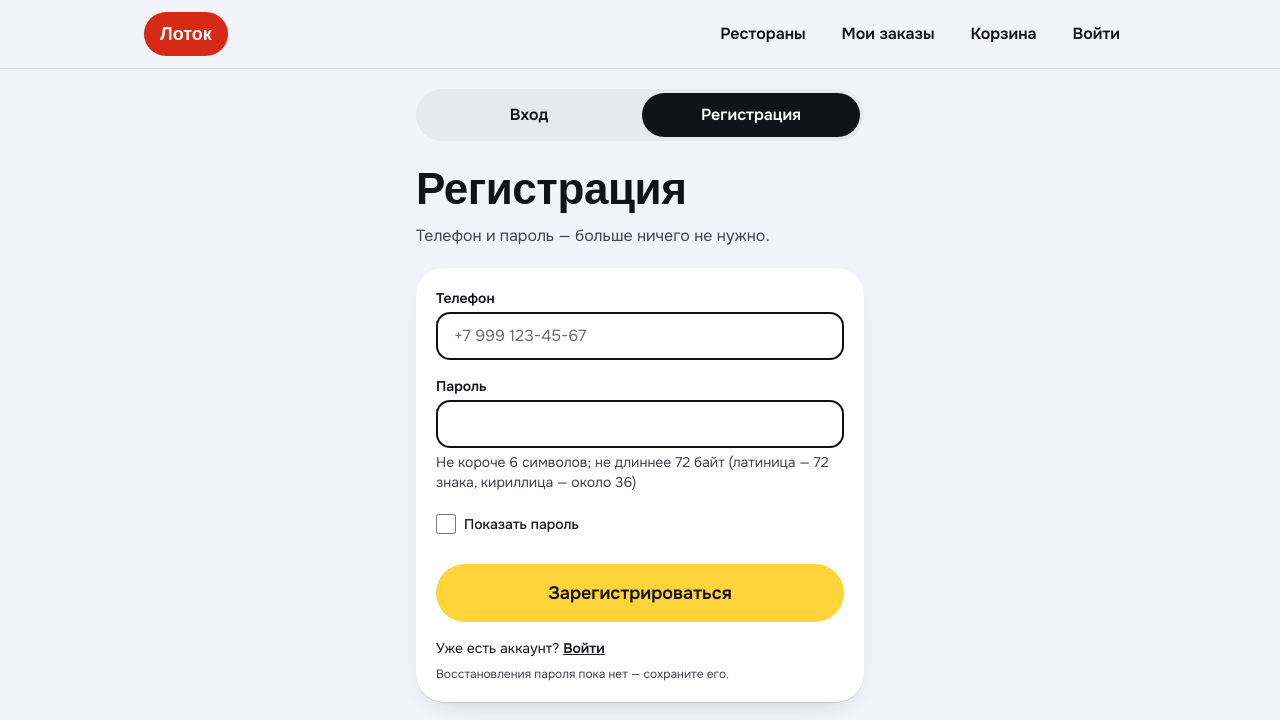
it: сессия (UC-ACC) › регистрация: занятый номер → ссылка «Войти»
Type "+79990000001" into the field labelled "Телефон". click: (640, 336)
box: [436, 312, 844, 360]
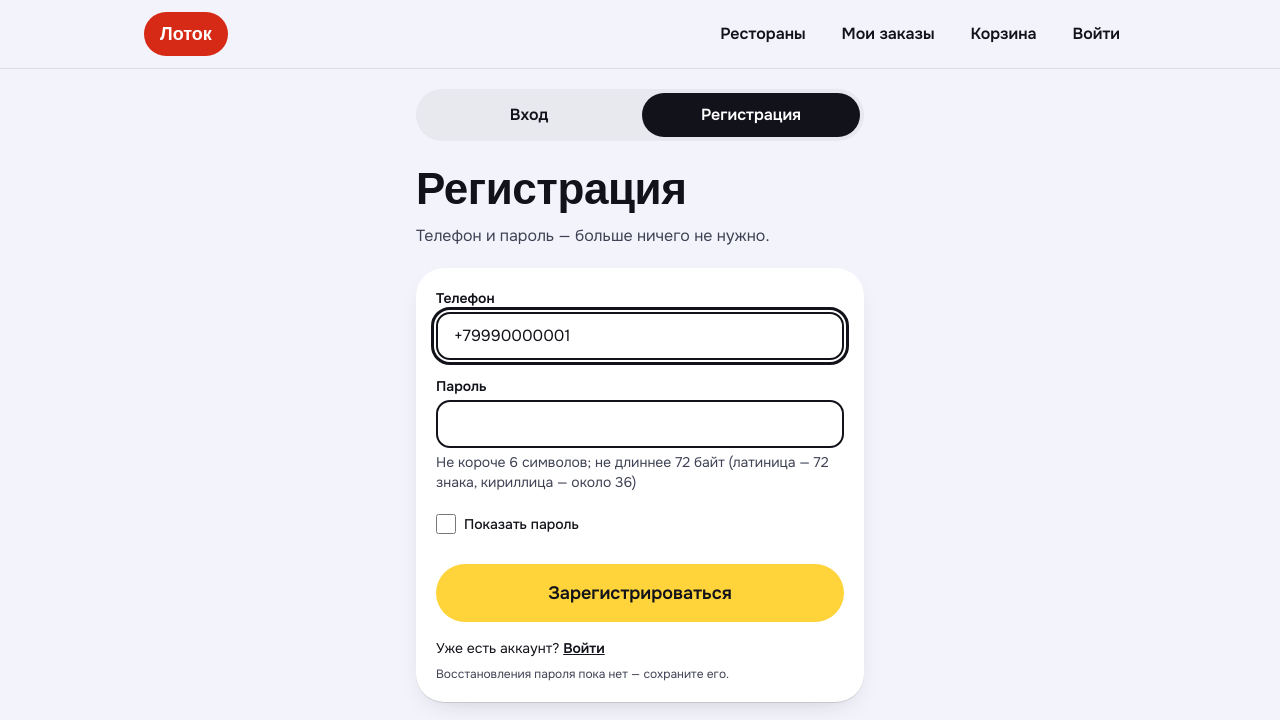
Type "abcdef" into the password field labelled "Пароль". click: (640, 424)
box: [436, 400, 844, 448]
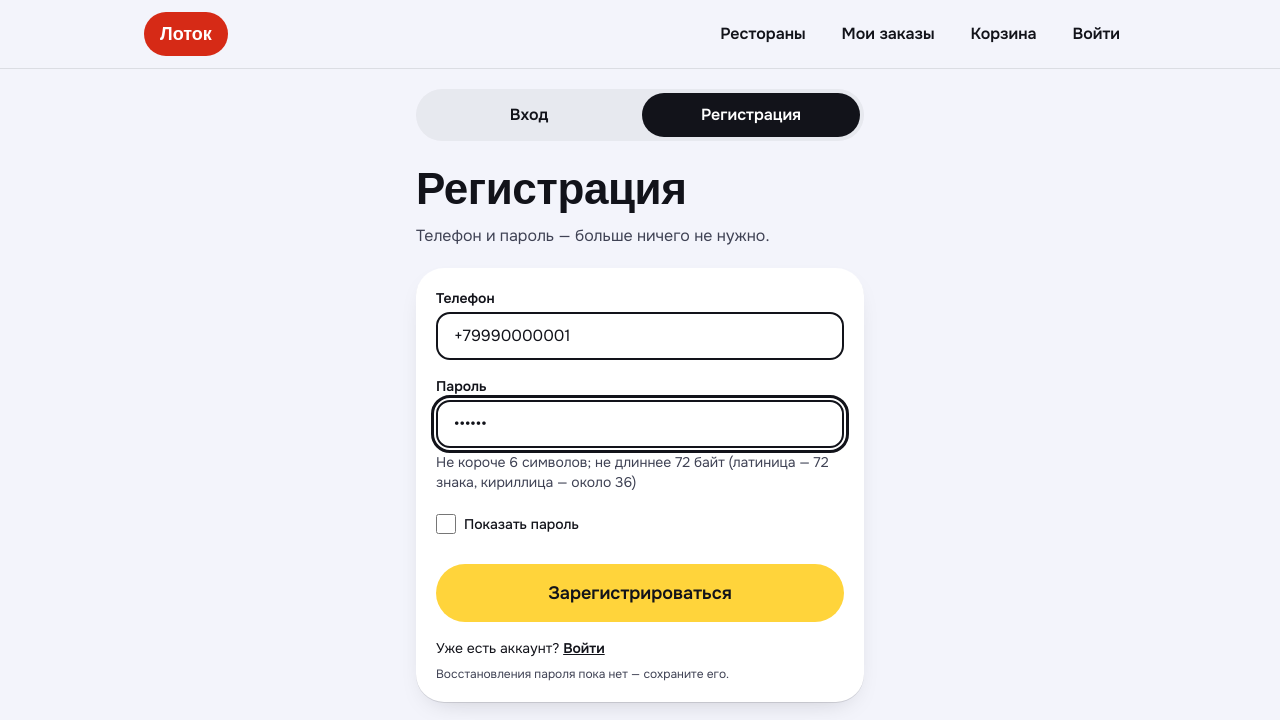
Click the button "Зарегистрироваться". click: (640, 593)
box: [436, 564, 844, 622]
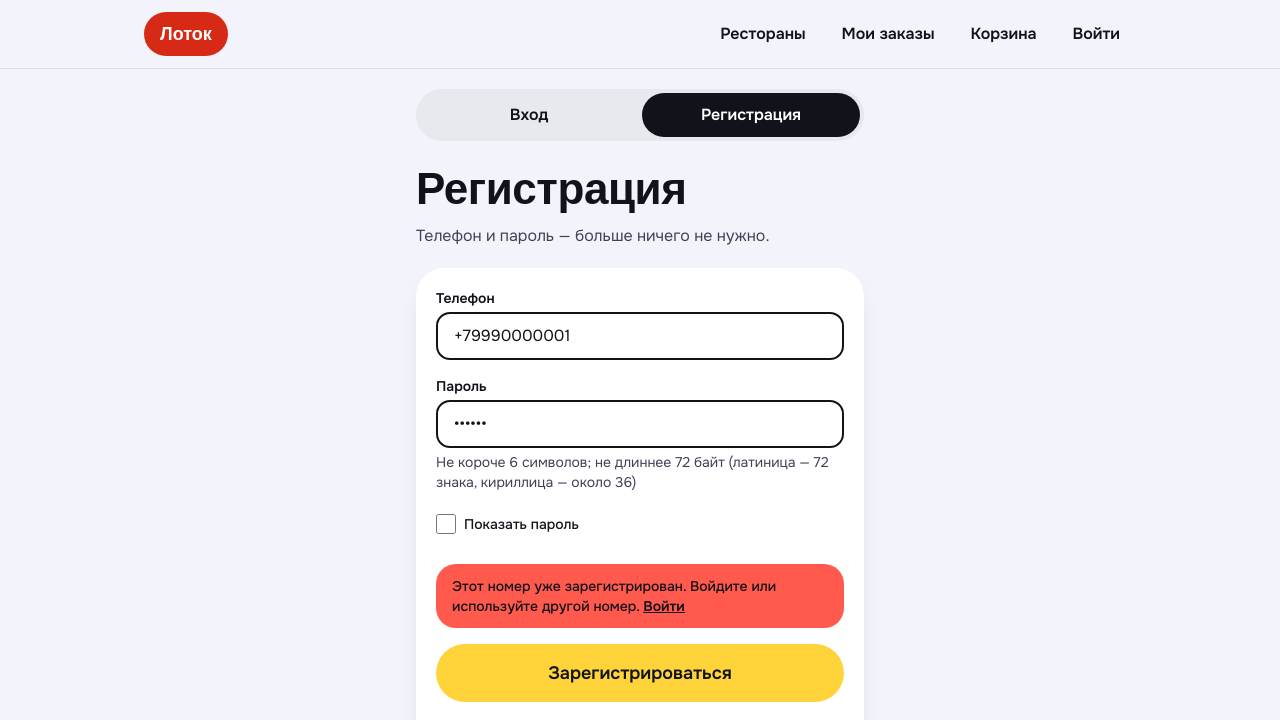
Now the text "Этот номер уже зарегистрирован. Войдите или используйте другой номер. Войти" is shown, box [436, 564, 844, 628]
